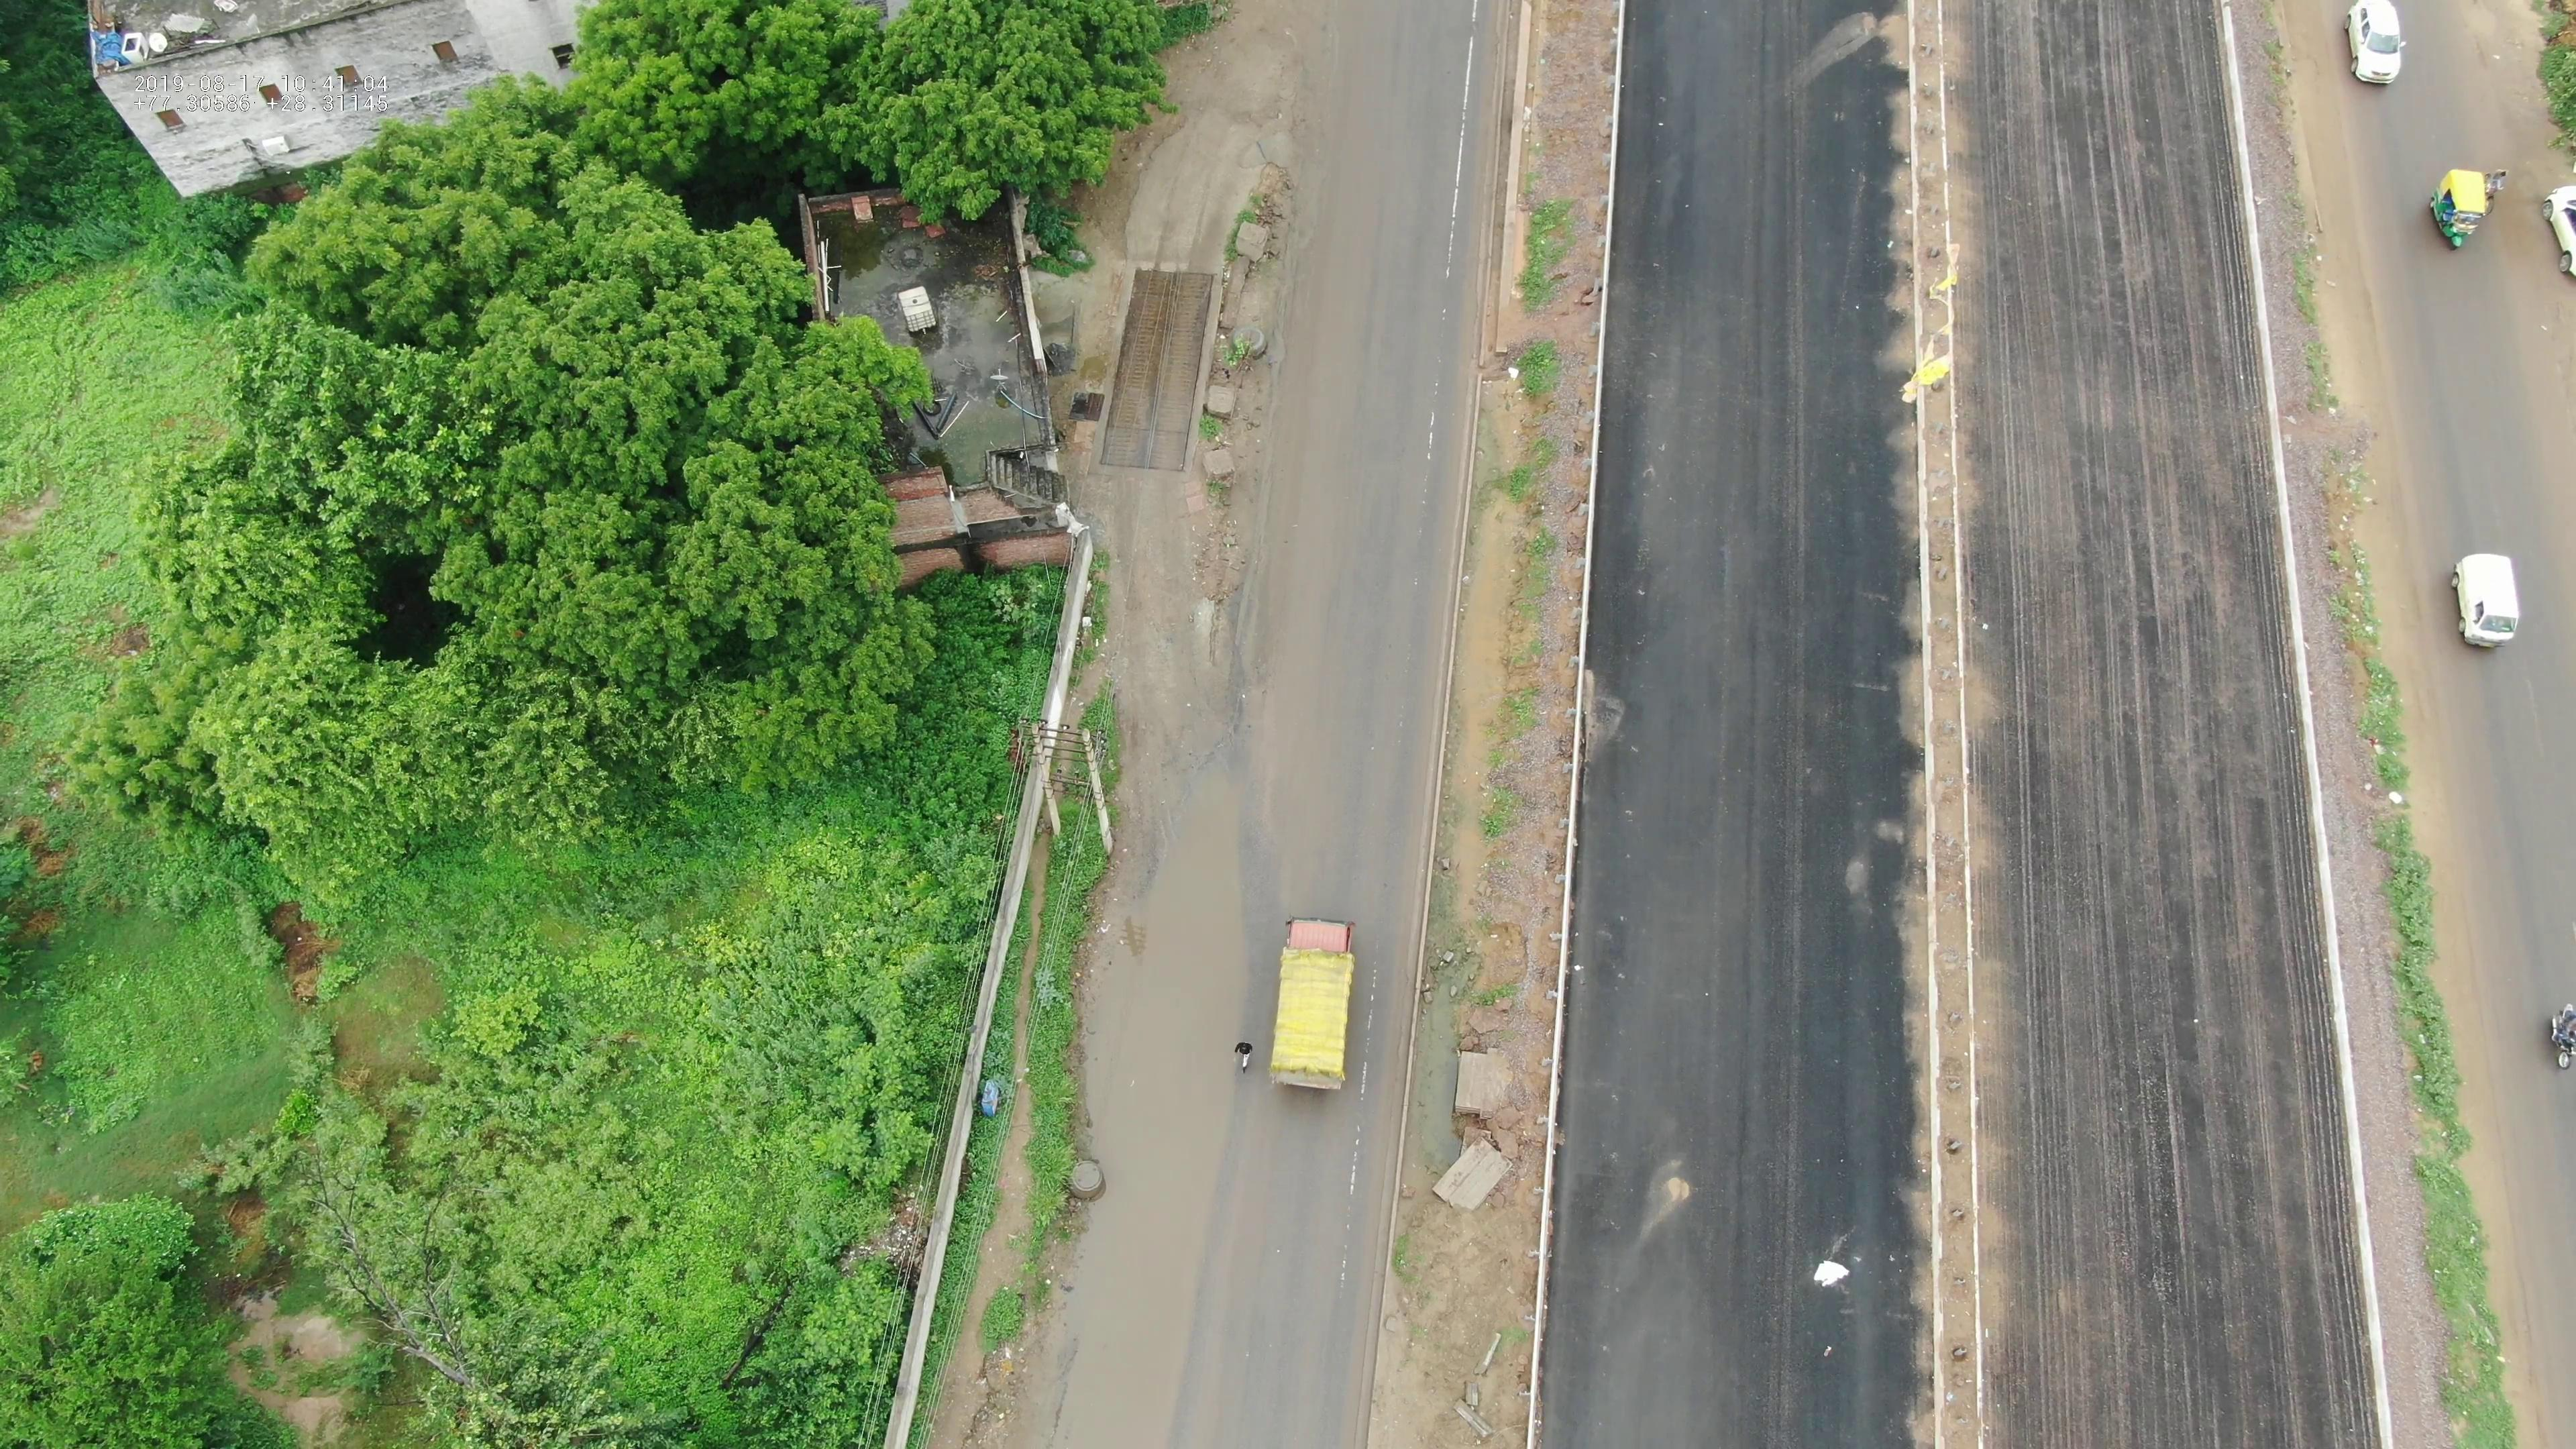Waterlogging: (1085, 964, 1192, 1315)
